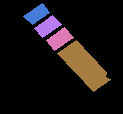parkingspot: (57, 40, 110, 91), (46, 27, 73, 50), (34, 15, 61, 37), (23, 3, 49, 24)
